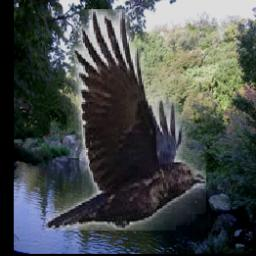Crow: (46, 10, 206, 232)
